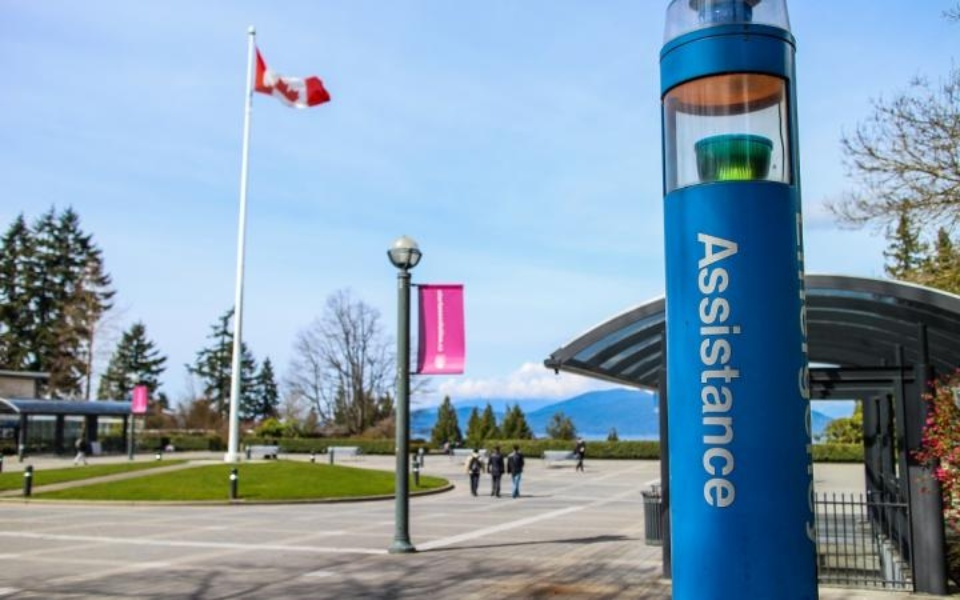text: (705, 230, 720, 510), (721, 230, 736, 510), (801, 206, 813, 539), (793, 206, 800, 539), (697, 230, 704, 510), (737, 230, 739, 510)
